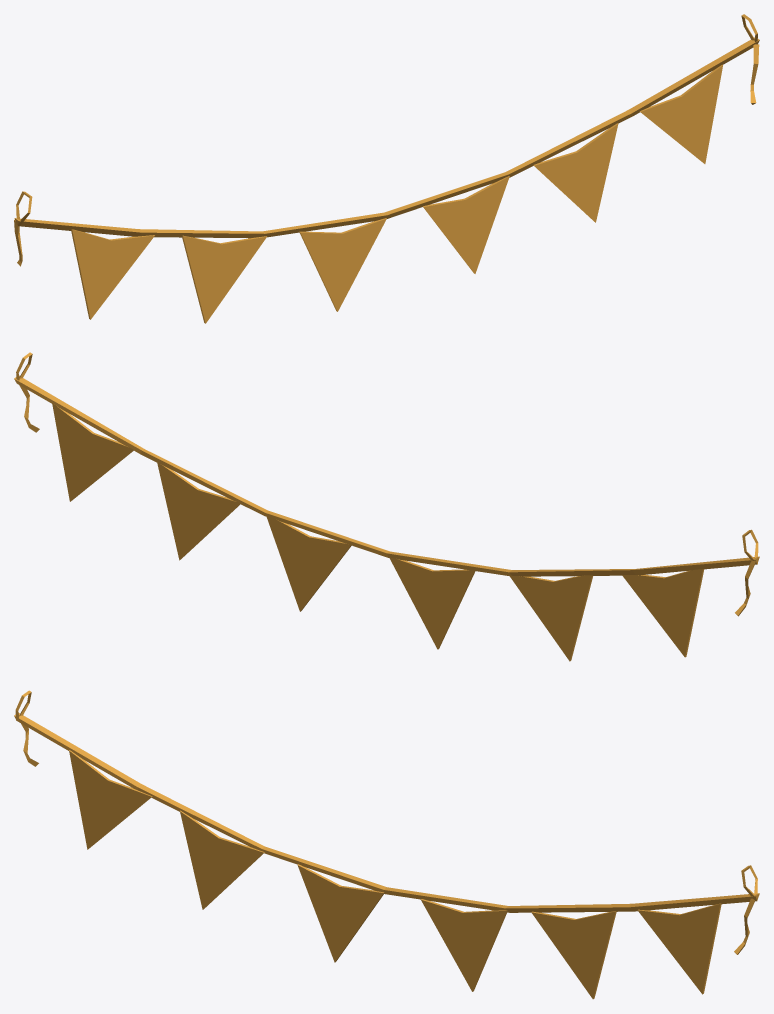
The model's file is string-of-flags-2m.fbx.
3 views of the same model, one above another, from view 1: azimuth 30°, elevation 25°; view 2: azimuth 150°, elevation 25°; view 3: azimuth 330°, elevation 25° (orthographic).
Visible parts, largest first — view 1: string-of-flags-2m; view 2: string-of-flags-2m; view 3: string-of-flags-2m.
Part boxes in pixels (x1,y1,x2,y2): string-of-flags-2m: [14, 14, 759, 323]; string-of-flags-2m: [14, 352, 759, 661]; string-of-flags-2m: [14, 690, 759, 999].
Size of the model in its own units: 2 by 0.5016 by 0.0882.
